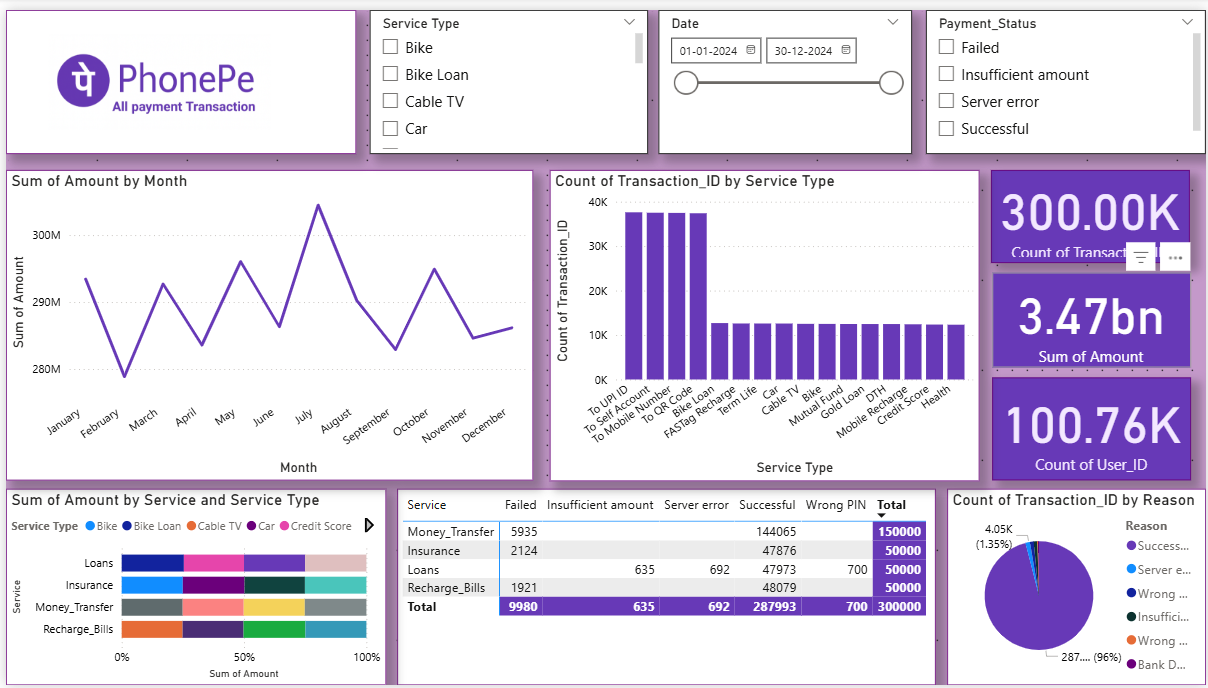

The dashboard page shown, as its layout file describes it:
{"tool":"powerbi","page":{"name":"All Transaction","canvas":[1280,720],"ordinal":0},"visuals":[{"type":"card","fields":{"Values":["CountNonNull(All_Transactions.Transaction_ID)"]},"box":[1050.2,170.2,212.4,98.9],"z":0},{"type":"card","fields":{"Values":["Count(All_Transactions.User_ID)"]},"box":[1052.3,392.3,212.3,109.2],"z":1000},{"type":"pivotTable","fields":{"Rows":["All_Transactions.Service"],"Columns":["All_Transactions.Payment_Status"],"Values":["CountNonNull(All_Transactions.Transaction_ID)"]},"box":[417.5,510.5,574.5,209.5],"z":2000},{"type":"pieChart","fields":{"Category":["All_Transactions.Reason"],"Y":["CountNonNull(All_Transactions.Transaction_ID)"]},"box":[1003.6,510.5,276.4,209.5],"z":3000},{"type":"columnChart","fields":{"Y":["CountNonNull(All_Transactions.Transaction_ID)"],"Category":["All_Transactions.Service Type"]},"box":[580.4,170.2,458.2,331.6],"z":4000},{"type":"hundredPercentStackedBarChart","fields":{"Category":["All_Transactions.Service"],"Series":["All_Transactions.Service Type"],"Y":["Sum(All_Transactions.Amount)"]},"box":[0,510.5,405.8,209.5],"z":5000},{"type":"lineChart","fields":{"Y":["Sum(All_Transactions.Amount)"],"Category":["All_Transactions.Date.Variation.Date Hierarchy.Month"]},"box":[0,170,562.5,331.2],"z":6000},{"type":"image","box":[0,0,373.3,153.3],"z":7000},{"type":"card","fields":{"Values":["Sum(All_Transactions.Amount)"]},"box":[1052.5,280,211.2,101.2],"z":8000},{"type":"slicer","fields":{"Values":["All_Transactions.Service Type"]},"box":[387.7,0,296.9,153.8],"z":9000},{"type":"slicer","fields":{"Values":["All_Transactions.Date"]},"box":[696.2,0,270,153.8],"z":10000},{"type":"slicer","fields":{"Values":["All_Transactions.Payment_Status"]},"box":[981.2,0,298.8,153.8],"z":11000}]}

Visuals, with their boxes in screenshot pixels (x1, y1, x2, y2), scaled from the page's 1280x720 canvas onto the 1208x688 screenshot:
card - CountNonNull(All_Transactions.Transaction_ID): (x1=991, y1=163, x2=1192, y2=257)
card - Count(All_Transactions.User_ID): (x1=993, y1=375, x2=1193, y2=479)
pivotTable - All_Transactions.Service x All_Transactions.Payment_Status: (x1=394, y1=488, x2=936, y2=687)
pieChart - All_Transactions.Reason x CountNonNull(All_Transactions.Transaction_ID): (x1=947, y1=488, x2=1207, y2=687)
columnChart - CountNonNull(All_Transactions.Transaction_ID) x All_Transactions.Service Type: (x1=548, y1=163, x2=980, y2=479)
hundredPercentStackedBarChart - All_Transactions.Service x All_Transactions.Service Type: (x1=0, y1=488, x2=383, y2=687)
lineChart - Sum(All_Transactions.Amount) x All_Transactions.Date.Variation.Date Hierarchy.Month: (x1=0, y1=162, x2=531, y2=479)
image: (x1=0, y1=0, x2=352, y2=146)
card - Sum(All_Transactions.Amount): (x1=993, y1=268, x2=1193, y2=364)
slicer - All_Transactions.Service Type: (x1=366, y1=0, x2=646, y2=147)
slicer - All_Transactions.Date: (x1=657, y1=0, x2=912, y2=147)
slicer - All_Transactions.Payment_Status: (x1=926, y1=0, x2=1207, y2=147)
